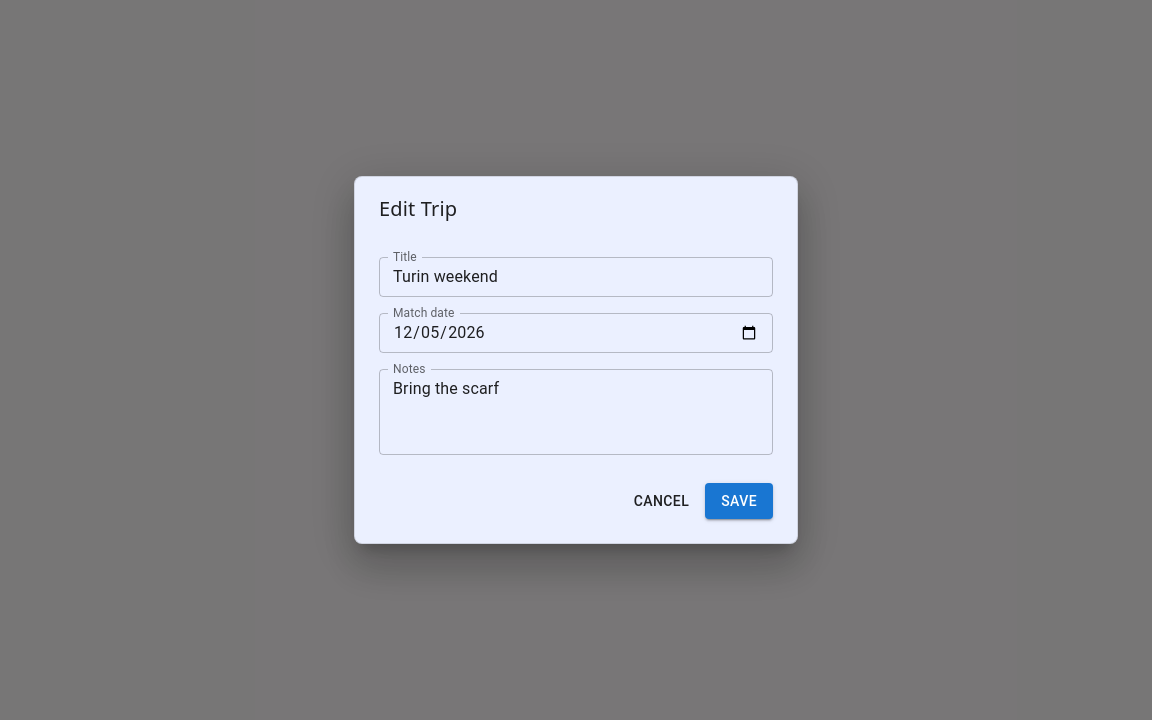
Scenario: EditItineraryDialog › stays open and shows the API error
Click the button "Save".
click(739, 501)  # box [705,483,773,519]
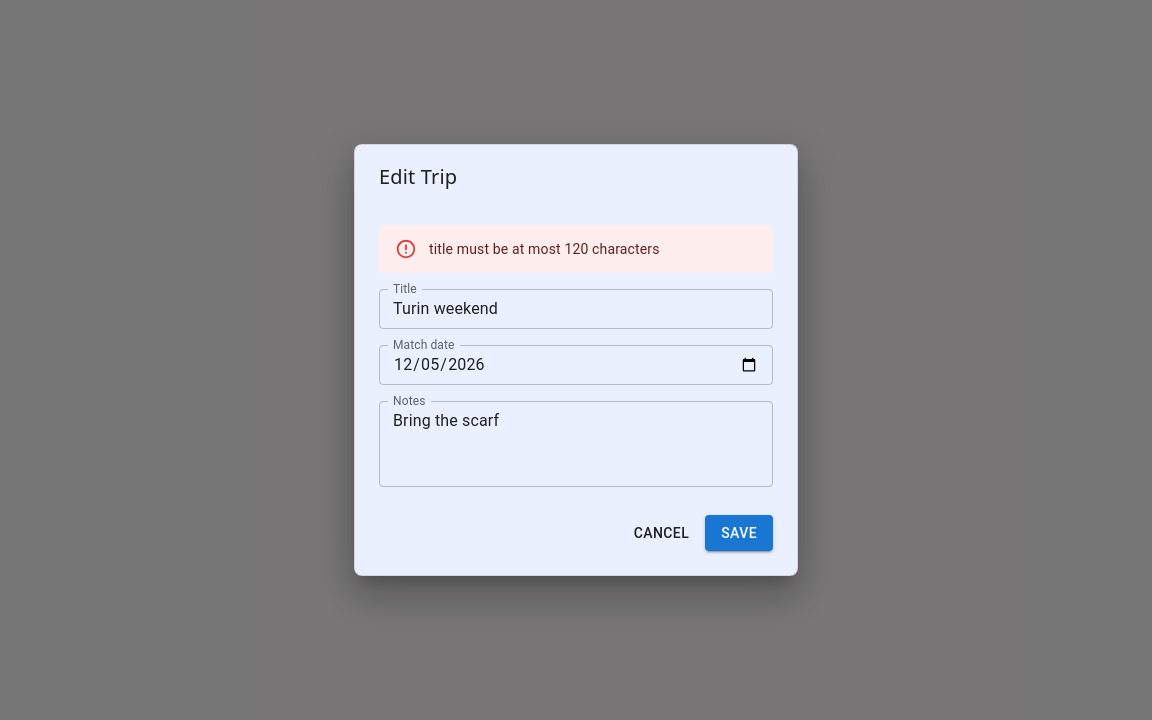
expect the text "title must be at most 120 characters" is shown: met, box [429,241,660,257]
